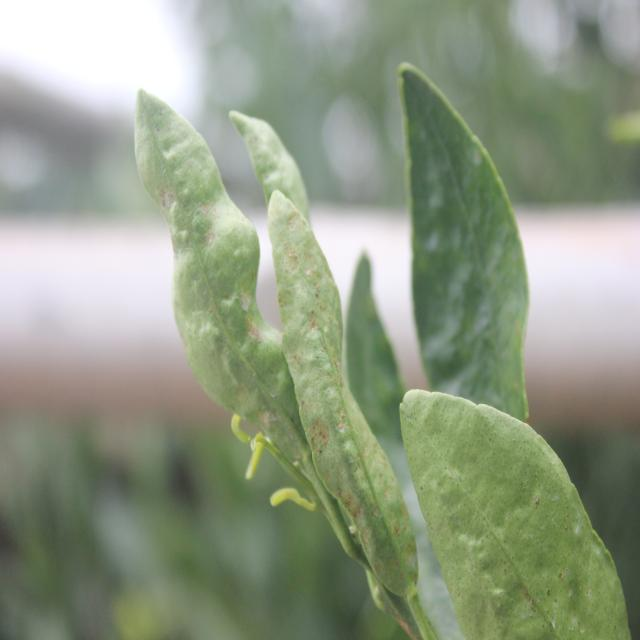canker: (279, 212, 412, 602), (150, 147, 265, 400)
